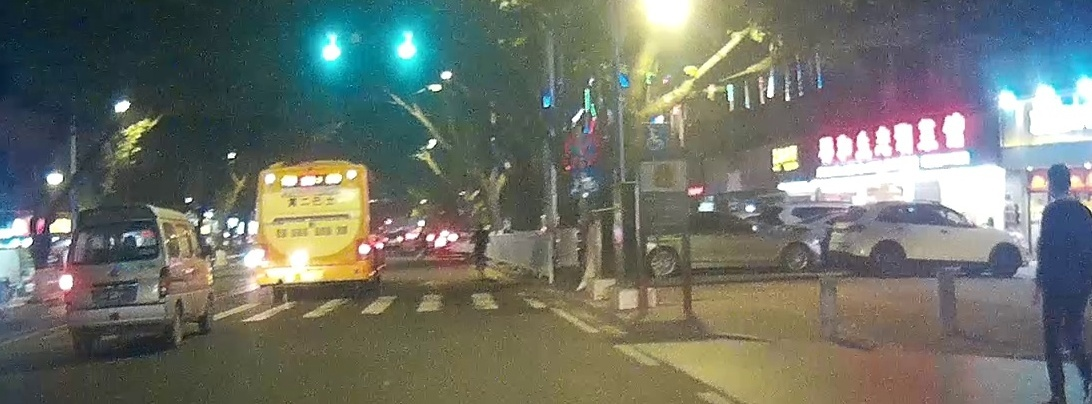L_light: (58, 273, 74, 303), (253, 244, 269, 263)
R_light: (158, 266, 171, 299), (355, 238, 371, 260)
T_light: (299, 169, 319, 175), (105, 223, 121, 227)
night-left: (58, 203, 173, 358)
night-no: (253, 161, 373, 300)
